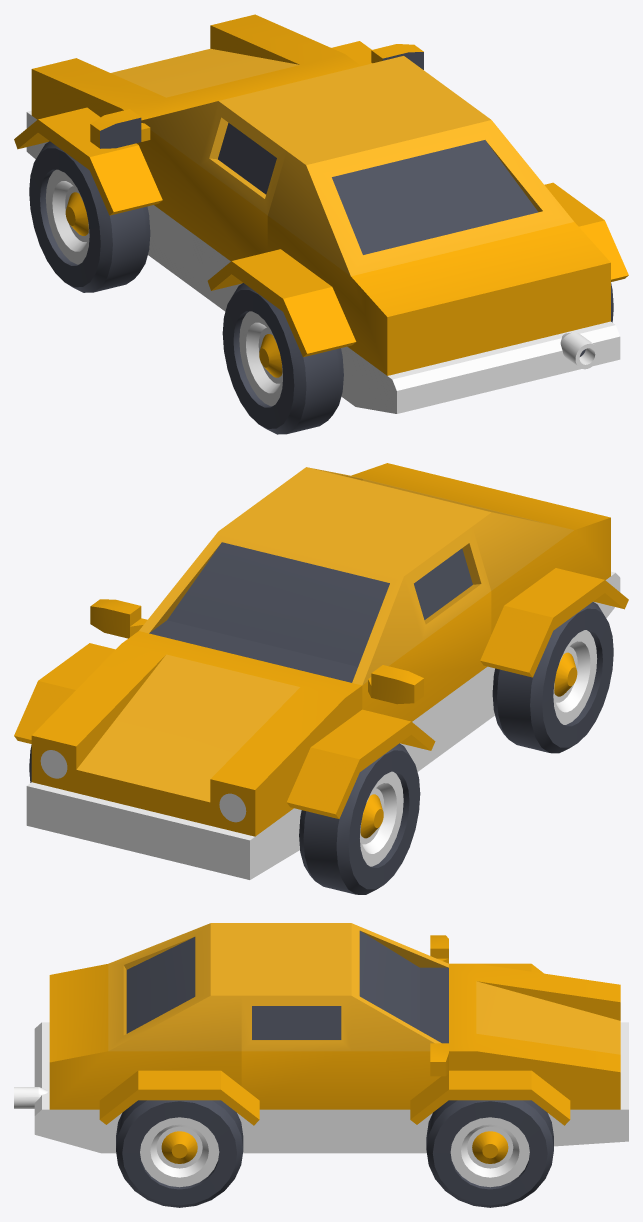
File: Traffic Old Yellow.fbx
3 views of the same model, one above another, from view 1: azimuth 30°, elevation 25°; view 2: azimuth 150°, elevation 25°; view 3: azimuth 270°, elevation 25° (orthographic). The views are drawn at different scales.
Parts seen in each view (by area): view 1: trunk_square_9, windshield_sports_3, hood_square_5, wheel_colored_29, wheel_colored_28, detail_fenderSquare_33, detail_fenderSquare_30, detail_fenderSquare_37, detail_mirror_20, detail_exhaust_38, detail_mirror_21; view 2: hood_square_5, windshield_sports_3, trunk_square_9, wheel_colored_29, wheel_colored_28, detail_fenderSquare_33, detail_fenderSquare_30, detail_fenderSquare_35, detail_mirror_20, detail_mirror_21; view 3: windshield_sports_3, trunk_square_9, hood_square_5, wheel_colored_34, wheel_colored_36, detail_fenderSquare_37, detail_fenderSquare_35, detail_mirror_21, detail_exhaust_38, detail_mirror_20.
Boxes of the visible parts, left/top/right/bottom form: trunk_square_9: left=267, top=106, right=620, bottom=413; windshield_sports_3: left=138, top=56, right=471, bottom=311; hood_square_5: left=26, top=14, right=360, bottom=159; wheel_colored_29: left=222, top=283, right=343, bottom=434; wheel_colored_28: left=29, top=141, right=150, bottom=292; detail_fenderSquare_33: left=207, top=249, right=356, bottom=357; detail_fenderSquare_30: left=14, top=107, right=162, bottom=215; detail_fenderSquare_37: left=544, top=182, right=628, bottom=281; detail_mirror_20: left=90, top=109, right=150, bottom=148; detail_exhaust_38: left=560, top=332, right=599, bottom=369; detail_mirror_21: left=371, top=44, right=423, bottom=69; hood_square_5: left=26, top=631, right=362, bottom=879; windshield_sports_3: left=139, top=481, right=491, bottom=771; trunk_square_9: left=287, top=463, right=620, bottom=717; wheel_colored_29: left=492, top=602, right=613, bottom=753; wheel_colored_28: left=299, top=743, right=420, bottom=894; detail_fenderSquare_33: left=480, top=568, right=628, bottom=677; detail_fenderSquare_30: left=286, top=709, right=435, bottom=818; detail_fenderSquare_35: left=14, top=643, right=115, bottom=743; detail_mirror_20: left=368, top=665, right=423, bottom=704; detail_mirror_21: left=90, top=599, right=147, bottom=638; windshield_sports_3: left=241, top=923, right=448, bottom=1153; trunk_square_9: left=34, top=923, right=241, bottom=1153; hood_square_5: left=449, top=963, right=628, bottom=1146; wheel_colored_34: left=426, top=1100, right=553, bottom=1207; wheel_colored_36: left=116, top=1100, right=243, bottom=1207; detail_fenderSquare_37: left=99, top=1070, right=259, bottom=1125; detail_fenderSquare_35: left=410, top=1070, right=570, bottom=1125; detail_mirror_21: left=430, top=1043, right=448, bottom=1076; detail_exhaust_38: left=14, top=1087, right=47, bottom=1108; detail_mirror_20: left=430, top=935, right=448, bottom=963.
Bounding box in the file's own units: 14.5 × 10.08 × 29.7.
